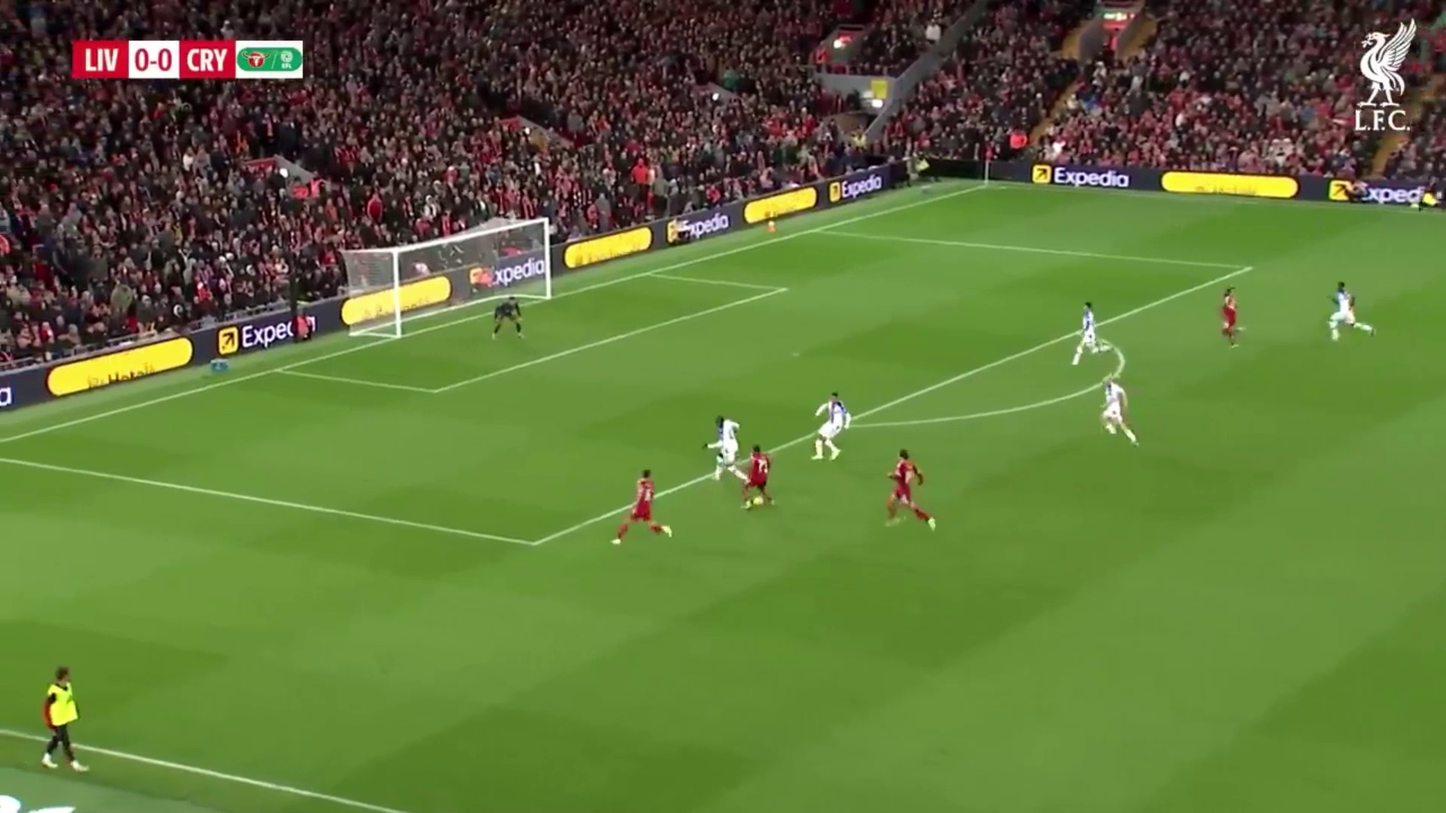player: (40, 664, 87, 775), (612, 470, 673, 545), (884, 448, 936, 530), (1328, 281, 1376, 341), (811, 390, 850, 462), (1100, 377, 1140, 446), (1074, 300, 1115, 367), (707, 415, 741, 482), (738, 446, 773, 509), (1328, 280, 1360, 338), (1074, 300, 1102, 363), (1219, 291, 1244, 345), (491, 300, 525, 338)
